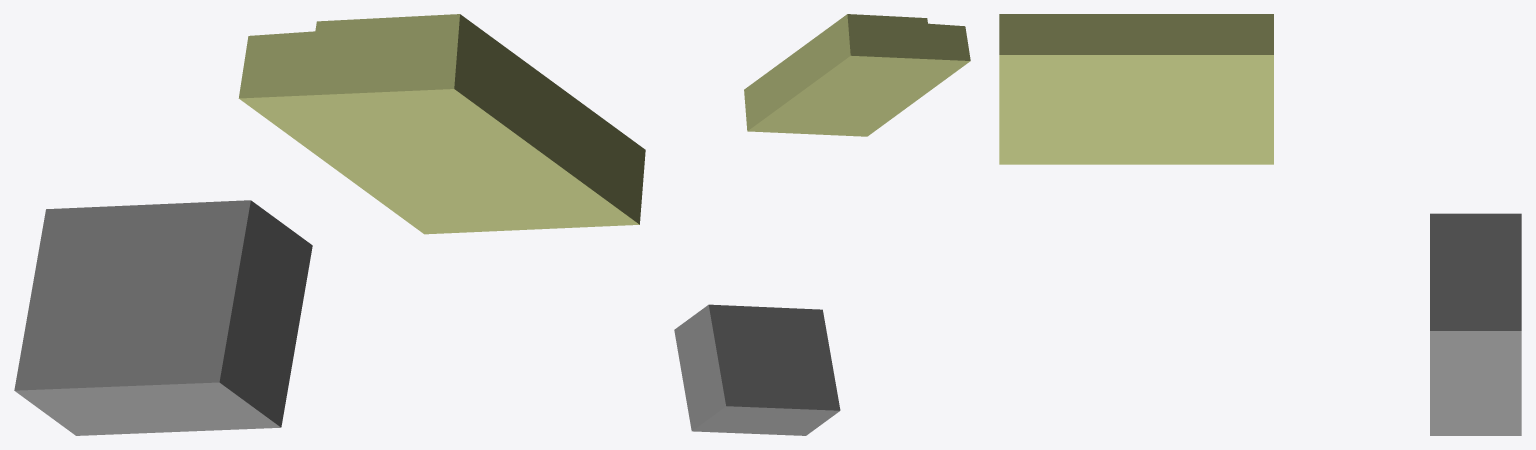
3 renders of one model, left to right at view 1: azimuth 30°, elevation 25°; view 2: azimuth 150°, elevation 25°; view 3: azimuth 270°, elevation 25°, orthographic. The views are drawn at different scales.
Parts seen in each view (by area): view 1: 0_1_2_0_3_3_2_0_1_1_3; view 2: 0_1_2_0_3_3_2_0_1_1_3; view 3: 0_1_2_0_3_3_2_0_1_1_3.
Boxes of the visible parts, x1,y1,x2,y2 form: 0_1_2_0_3_3_2_0_1_1_3: [14, 14, 645, 435]; 0_1_2_0_3_3_2_0_1_1_3: [674, 14, 970, 435]; 0_1_2_0_3_3_2_0_1_1_3: [999, 14, 1521, 435].
Bounding box in the file's own units: 7.8 × 13.45 × 17.11.
